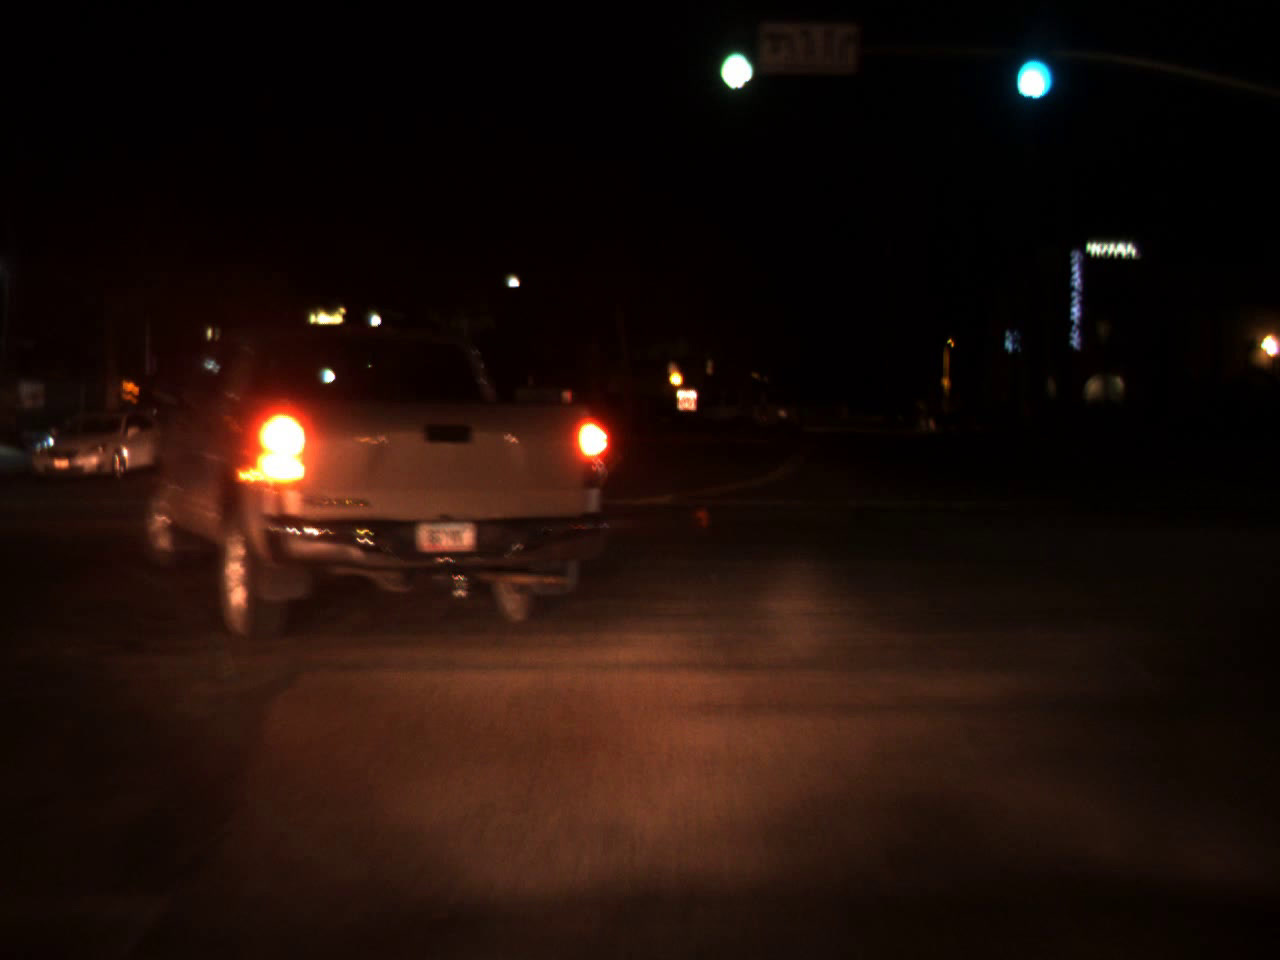go: (1008, 31, 1051, 109), (711, 34, 756, 91)
